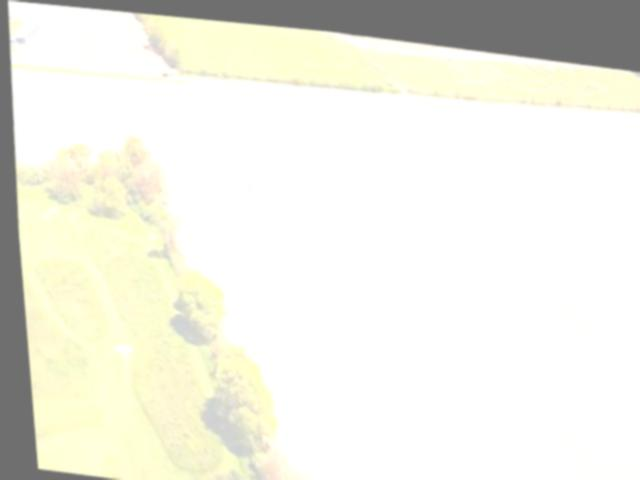iha: (213, 166, 291, 205)
